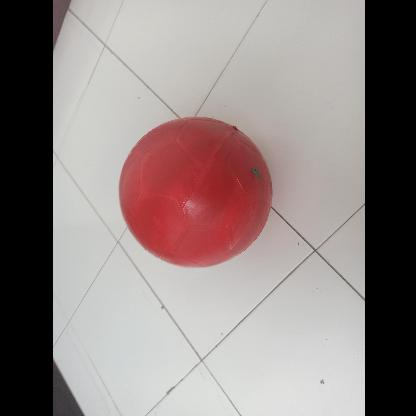red_ball: (115, 116, 269, 270)
